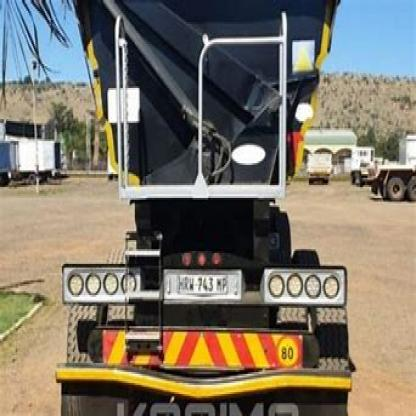dump_truck: (60, 0, 358, 414)
